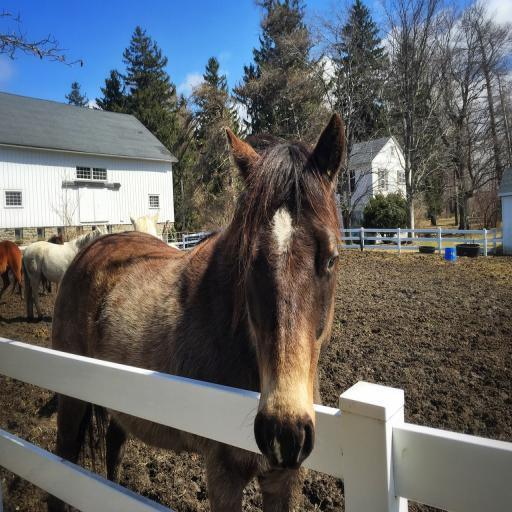horse: (54, 110, 344, 512), (20, 222, 110, 324), (40, 233, 64, 295), (0, 240, 22, 300), (129, 208, 160, 239)
